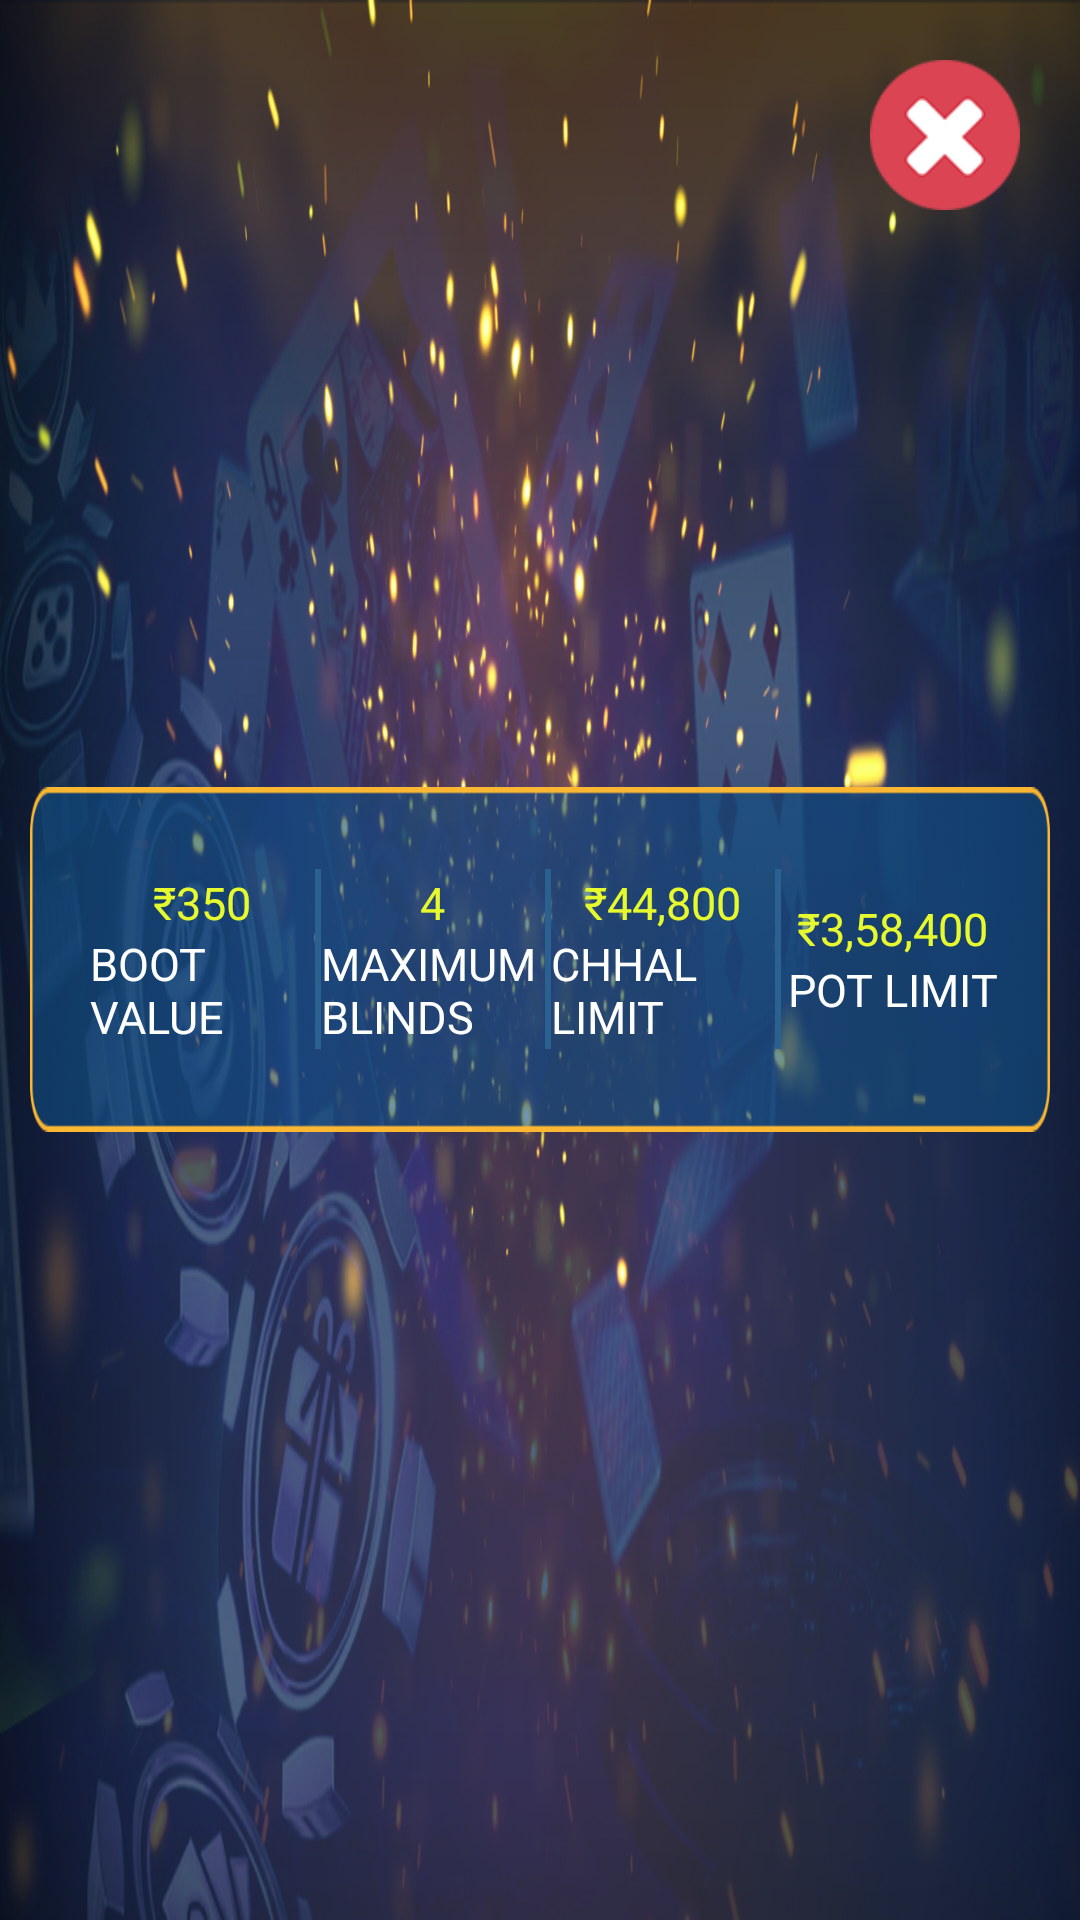

Icons on this 1080 × 1920 Android screen, each with its box as (x1, y1, x2, y2):
close: (870, 60, 1020, 210)
